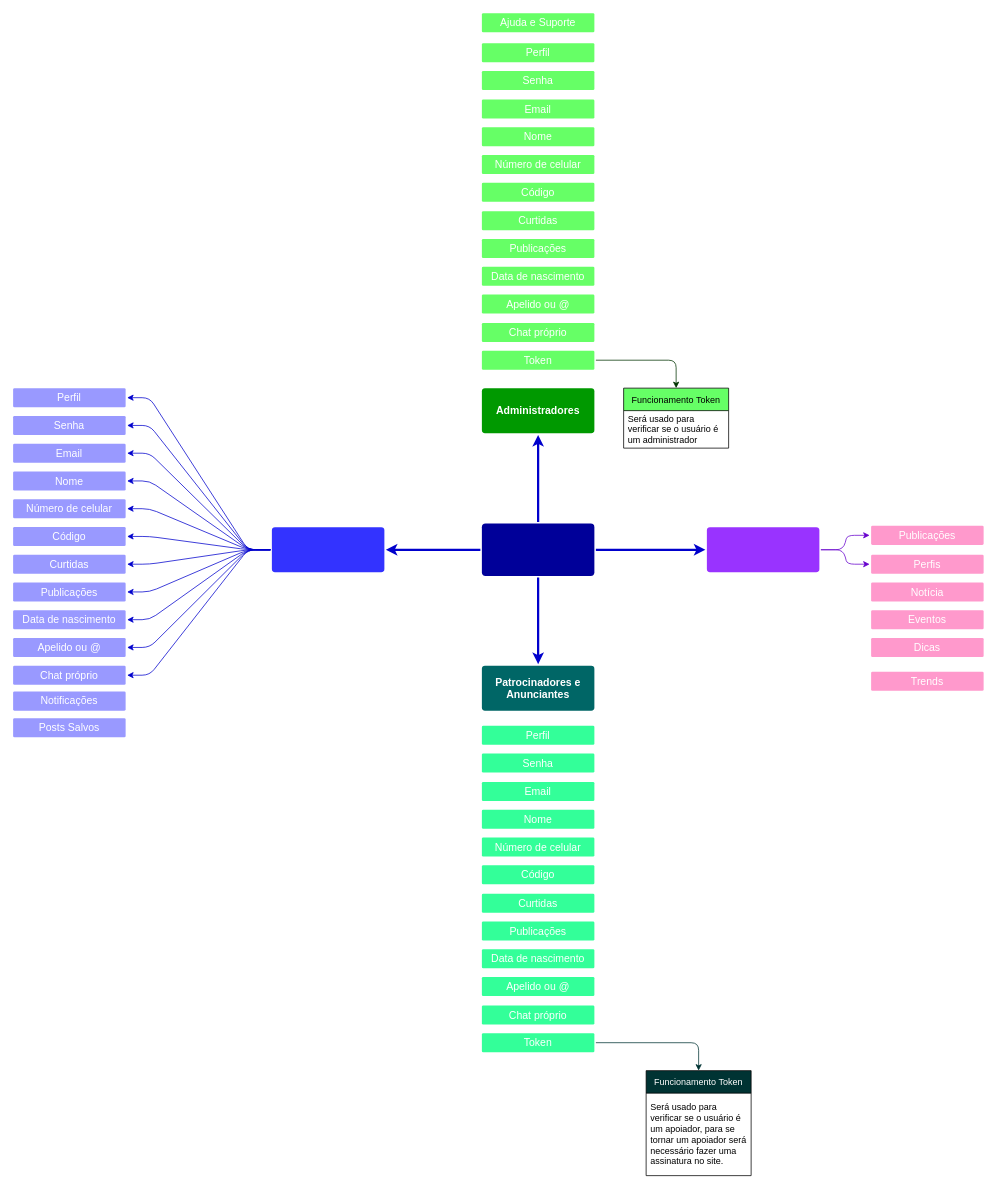
The diagram is 996 pixels wide and 1189 high, and some of its shapes have lost their labels. The centre of each missing label's shape, as x and y in pixels:
Público: (762,549)
Servidor: (538,549)
Usuários: (328,549)
